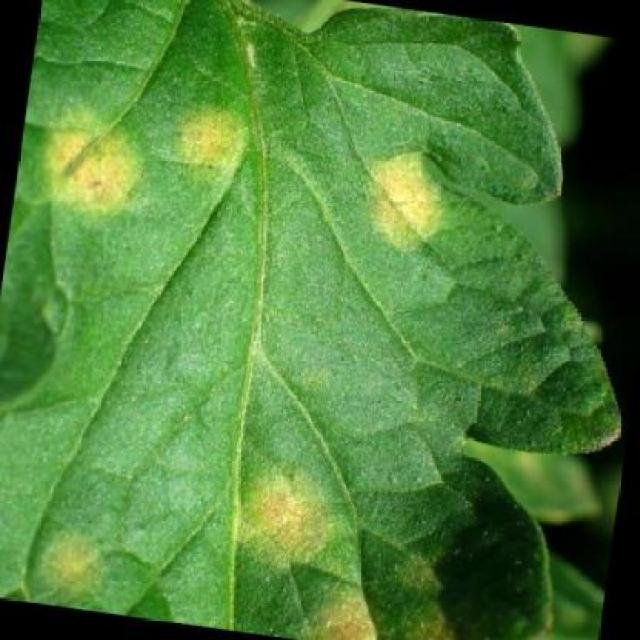Leaf Mold: (1, 60, 479, 639)
